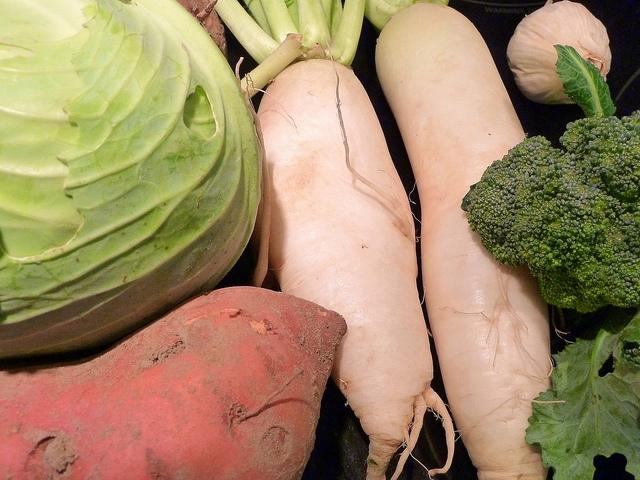broccoli: (460, 111, 640, 312)
garlic: (506, 6, 612, 104)
potato: (0, 285, 347, 480)
